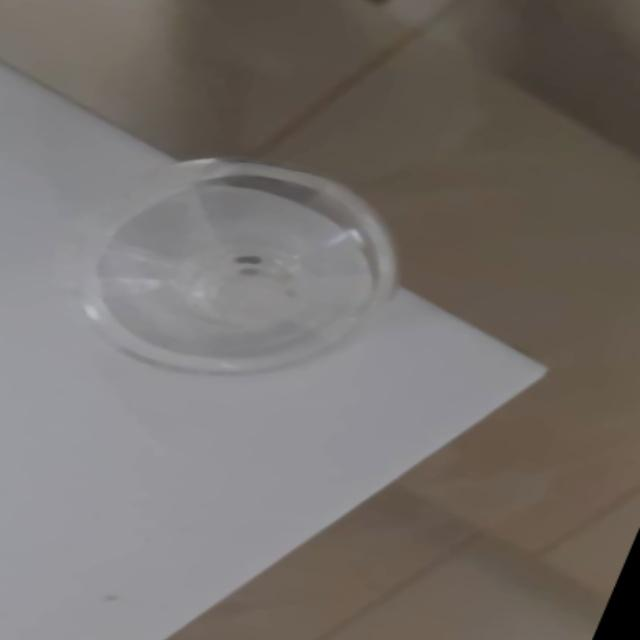Density Bottles for Solids: (32, 124, 446, 405)
